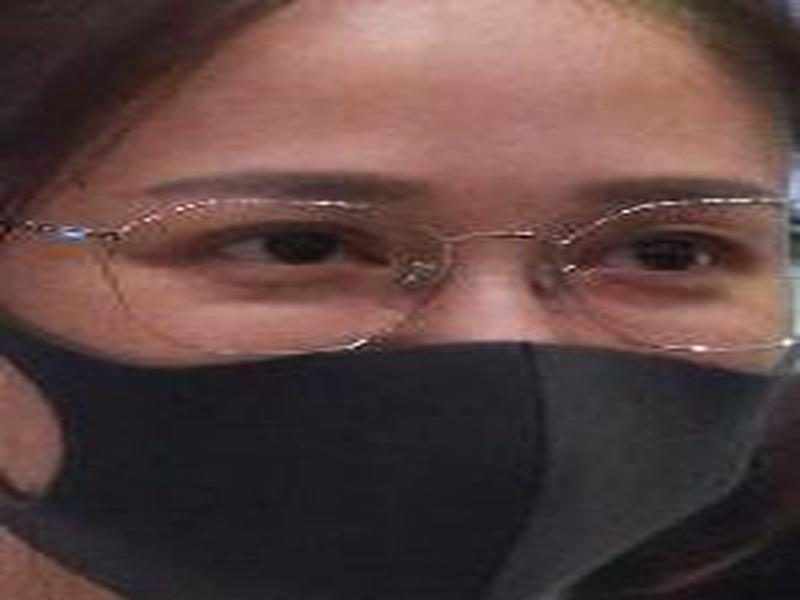with_mask: (1, 3, 791, 600)
